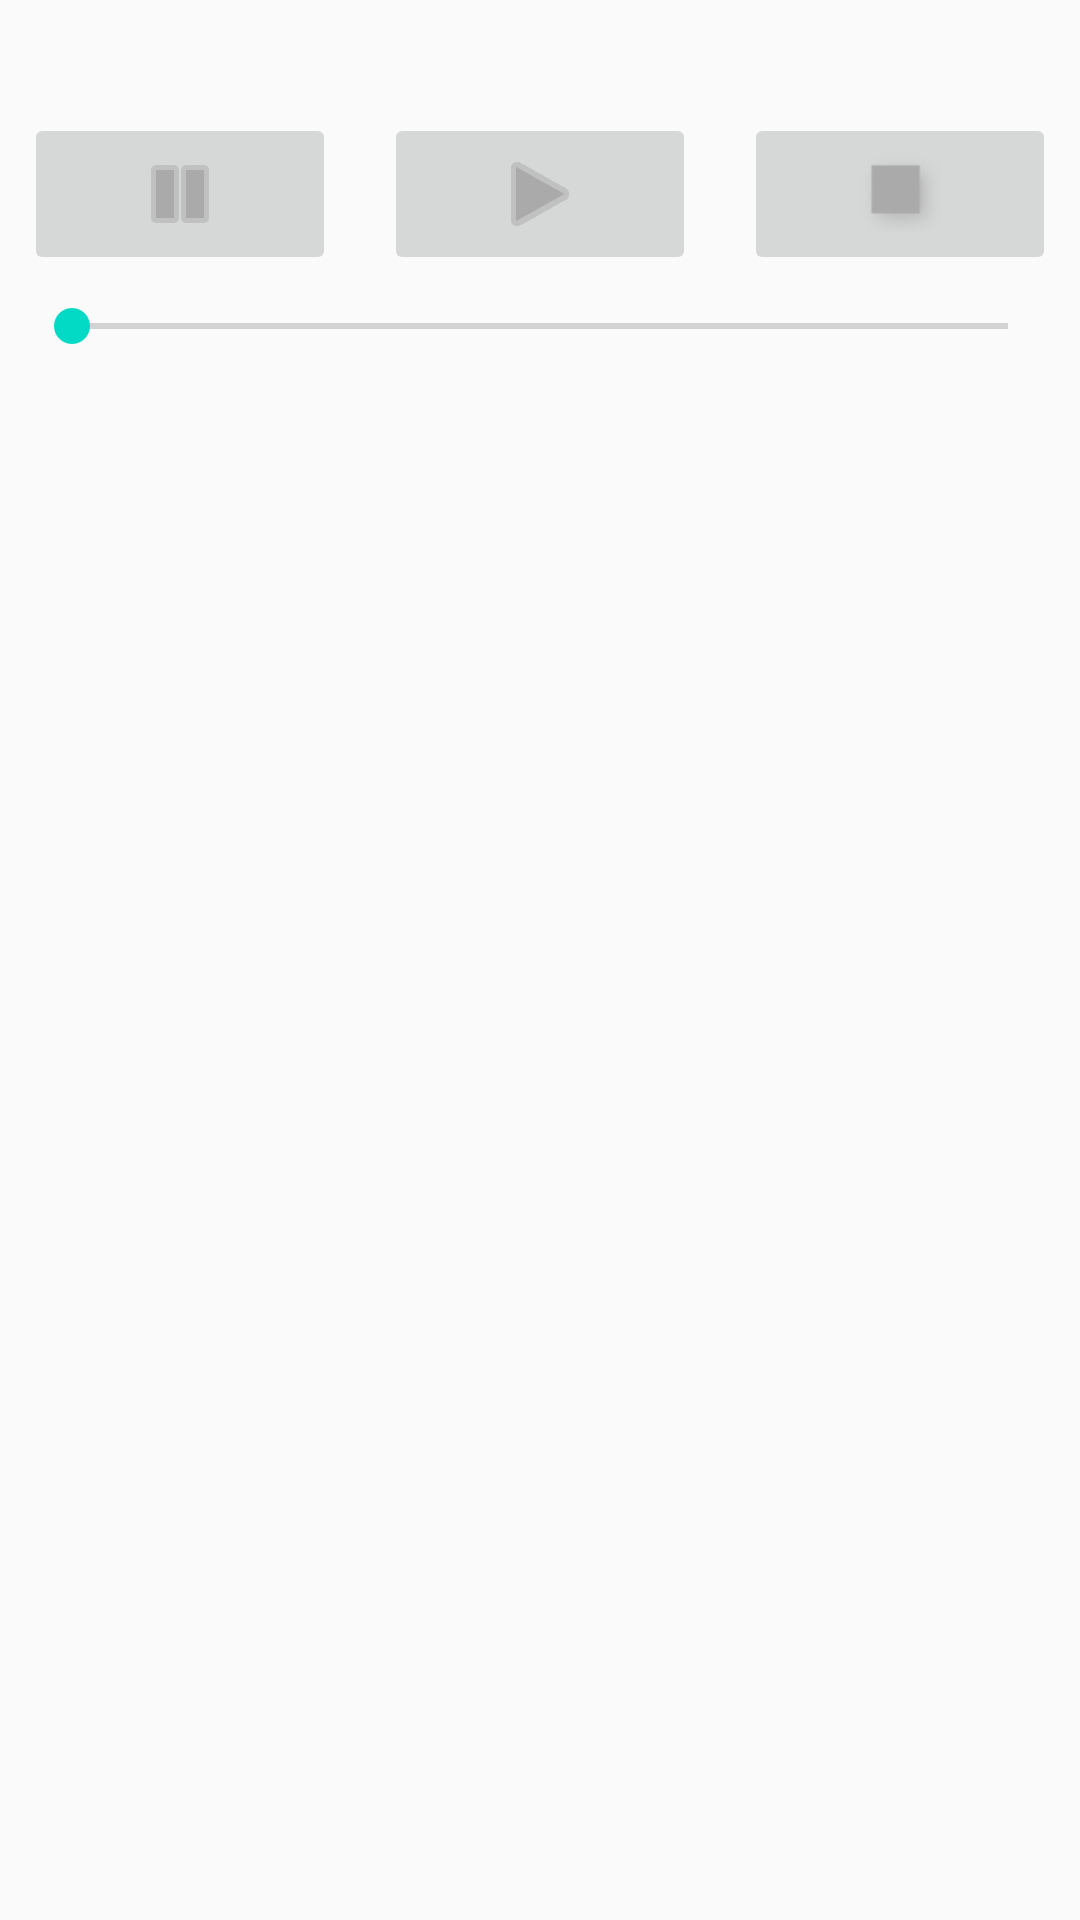

Named icons in this screenshot (1080 x 1920) and their bounding boxes, (x1, y1, x2, y2):
pause: (36, 131, 324, 257)
play: (396, 131, 684, 257)
